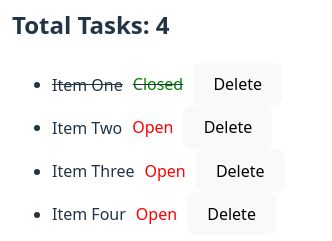
Test: TodoList Component › toggles a todo item between completed and not completed
Expected: the text "Closed" is shown, x1=133 y1=73 x2=183 y2=95
Simulate click to toggle 'Item One'
What coordinates should you click on to do the following:
click the text "Item One"
I would click on:
 (87, 84)
Its box is x1=52 y1=73 x2=123 y2=95.
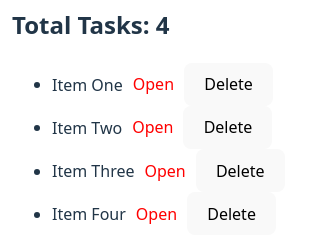
Result: the text "Closed" is gone
Simulate click to toggle 'Item One' back to completed
What coordinates should you click on to do the following:
click the text "Item One"
I would click on:
 (87, 84)
Its box is x1=52 y1=73 x2=123 y2=95.
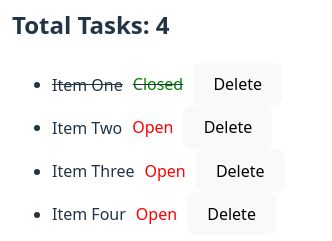
Result: the text "Closed" is shown at x1=133 y1=73 x2=183 y2=95
